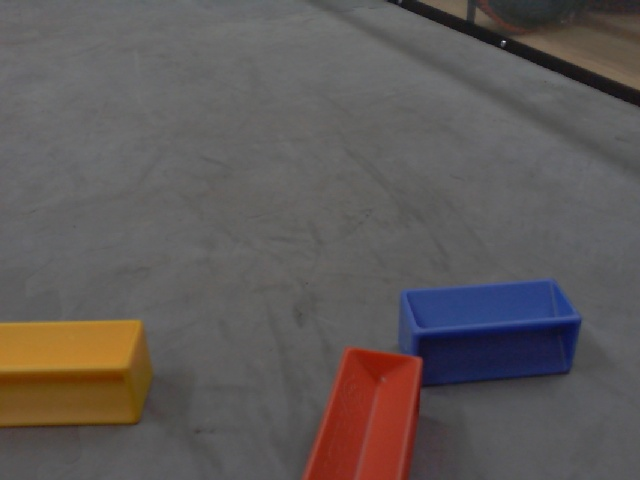BlueSample: (389, 279, 582, 383)
RedSample: (295, 345, 428, 480)
YellowSample: (1, 312, 158, 431)
